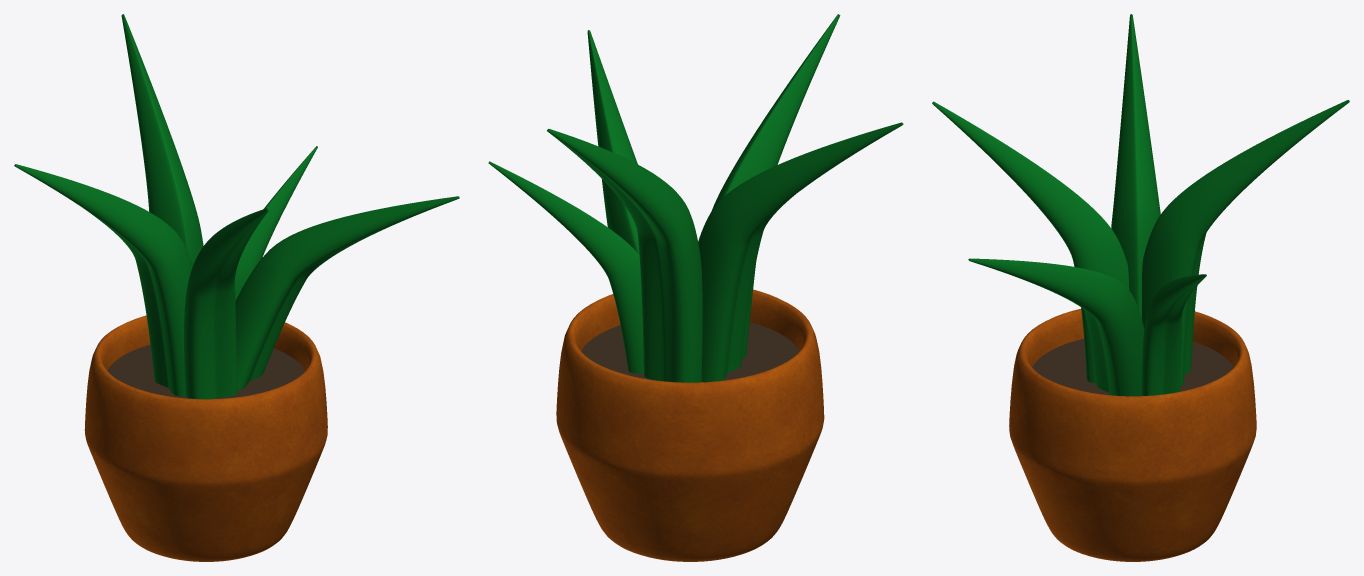
The model's file is Plant_finished.fbx.
3 renders of one model, left to right at view 1: azimuth 30°, elevation 25°; view 2: azimuth 150°, elevation 25°; view 3: azimuth 270°, elevation 25°, orthographic. The views are drawn at different scales.
Parts seen in each view (by area): view 1: Vert, NurbsPath.003, NurbsPath, NurbsPath.004, NurbsPath.001, Circle, NurbsPath.002; view 2: Vert, NurbsPath.001, NurbsPath, NurbsPath.002, NurbsPath.004, NurbsPath.003, Circle; view 3: Vert, NurbsPath.001, NurbsPath.003, NurbsPath.004, NurbsPath, NurbsPath.002, Circle.
Part boxes in pixels (<box>): Vert: <box>84,315,327,561</box>; NurbsPath.003: <box>235,196,459,389</box>; NurbsPath: <box>14,164,193,396</box>; NurbsPath.004: <box>184,208,269,399</box>; NurbsPath.001: <box>121,14,203,264</box>; Circle: <box>107,344,305,398</box>; NurbsPath.002: <box>234,146,317,300</box>; Vert: <box>556,289,824,561</box>; NurbsPath.001: <box>547,129,702,382</box>; NurbsPath: <box>698,122,903,382</box>; NurbsPath.002: <box>488,161,643,373</box>; NurbsPath.004: <box>712,14,840,359</box>; NurbsPath.003: <box>587,30,639,254</box>; Circle: <box>581,322,799,382</box>; Vert: <box>1009,308,1256,561</box>; NurbsPath.001: <box>1142,100,1349,386</box>; NurbsPath.003: <box>968,258,1144,396</box>; NurbsPath.004: <box>932,101,1129,383</box>; NurbsPath: <box>1111,14,1160,318</box>; NurbsPath.002: <box>1141,274,1206,395</box>; Circle: <box>1032,339,1233,396</box>.
Size of the model in its own units: 5.24 by 5.98 by 5.09.
Materials: 3 (3 with a texture image).
